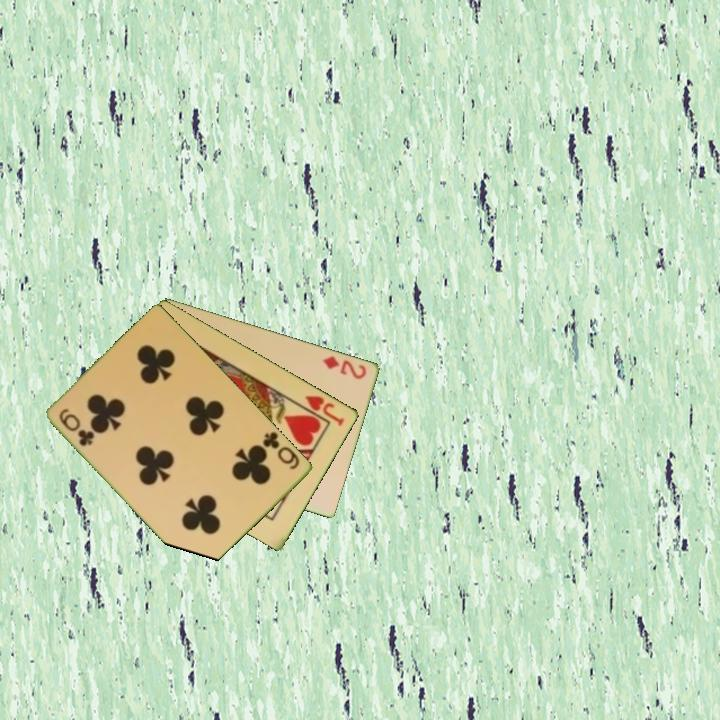2d: (320, 352, 370, 382)
6c: (259, 428, 303, 472), (56, 405, 98, 449)
Jh: (294, 392, 348, 429)
